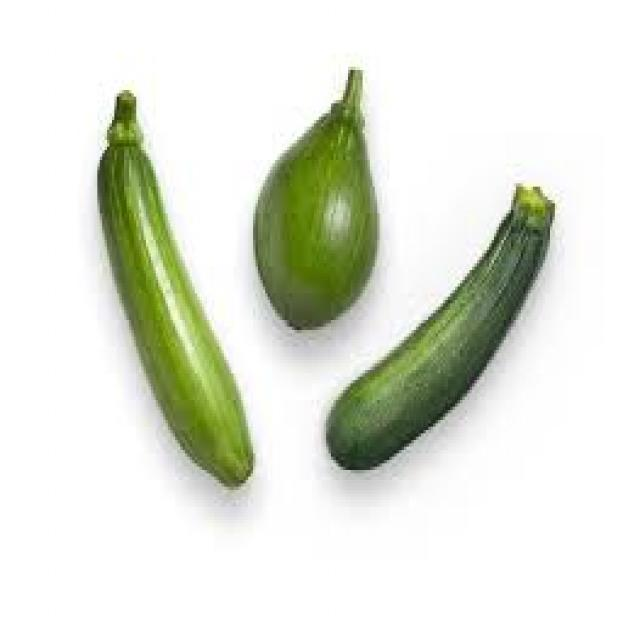yogurt: (329, 187, 557, 470), (97, 90, 256, 488)
